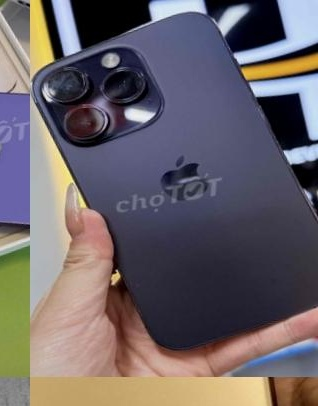scratch: (35, 56, 96, 105)
